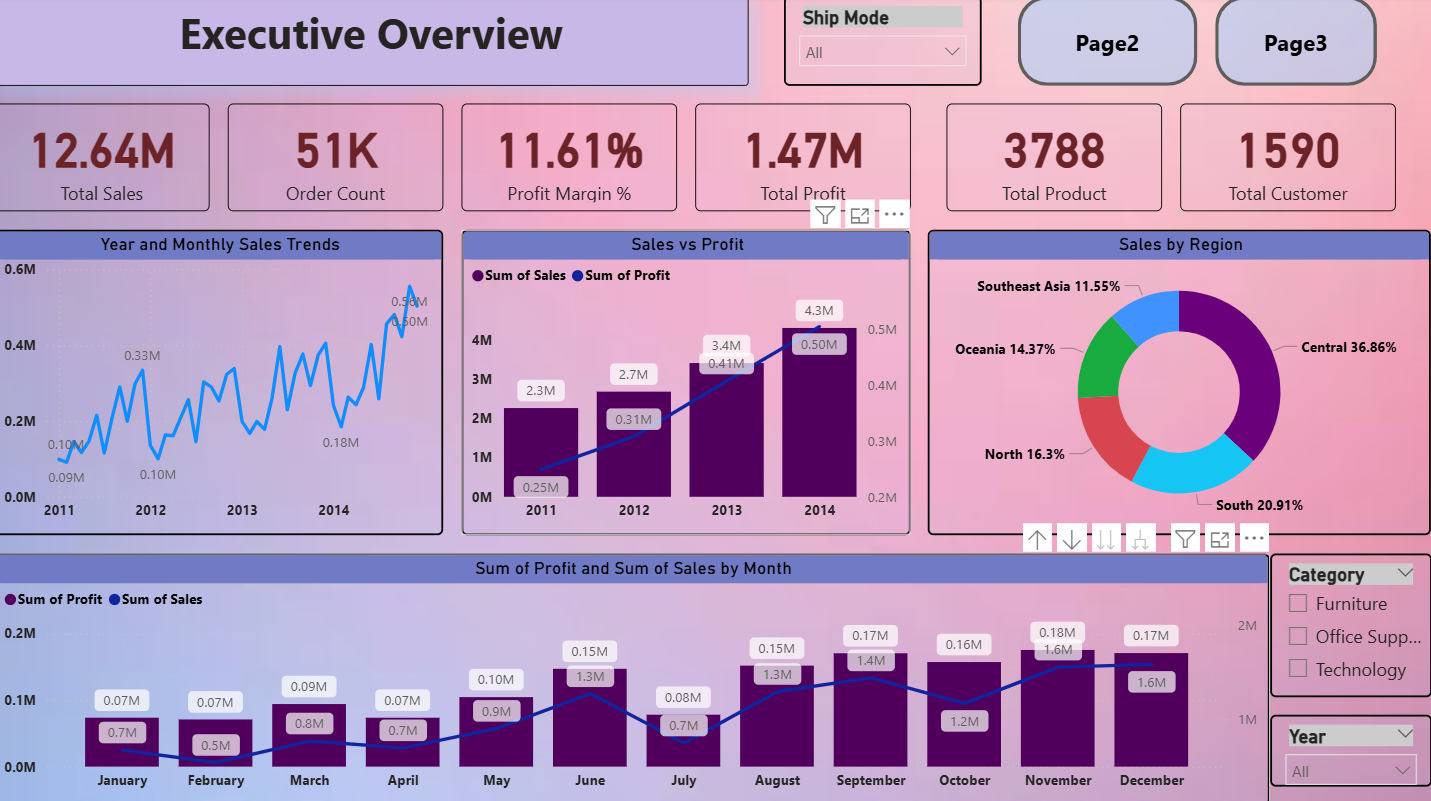

The page's visual inventory and layout, read from the dashboard file:
{"tool":"powerbi","page":{"name":"Page 1","canvas":[1280,720],"ordinal":0},"visuals":[{"type":"textbox","box":[0,0,672,80],"z":0},{"type":"card","fields":{"Values":["Global_Superstore2.Total Sales"]},"box":[0,96,192,96],"z":1000},{"type":"card","fields":{"Values":["Global_Superstore2.Order Count"]},"box":[208,96,192,96],"z":2000},{"type":"card","fields":{"Values":["Global_Superstore2.Profit Margin %"]},"box":[416,96,192,96],"z":3000},{"type":"card","fields":{"Values":["Global_Superstore2.Total Profit"]},"box":[624,96,192,96],"z":4000},{"type":"card","fields":{"Values":["Date.Total Product"]},"box":[848,96,192,96],"z":5000},{"type":"card","fields":{"Values":["Date.Total Customer"]},"box":[1056,96,192,96],"z":6000},{"type":"lineChart","title":" Year and Monthly Sales  Trends","fields":{"Category":["Date.Date.Variation.Date Hierarchy.Year","Date.Date.Variation.Date Hierarchy.Month"],"Y":["Sum(Global_Superstore2.Sales)"]},"box":[0,208,400,272],"z":7000},{"type":"lineStackedColumnComboChart","title":"Sales vs Profit ","fields":{"Y":["Sum(Global_Superstore2.Sales)"],"Category":["Date.Date.Variation.Date Hierarchy.Year"],"Y2":["Sum(Global_Superstore2.Profit)"]},"box":[416,208,400,272],"z":8000},{"type":"lineStackedColumnComboChart","fields":{"Category":["Date.Date.Variation.Date Hierarchy.Year","Date.Date.Variation.Date Hierarchy.Month"],"Y":["Sum(Global_Superstore2.Profit)"],"Y2":["Sum(Global_Superstore2.Sales)"]},"box":[0,496,1136,224],"z":9000},{"type":"slicer","fields":{"Values":["Date.Date.Variation.Date Hierarchy.Year"]},"box":[1136,640,144,64],"z":10000},{"type":"actionButton","title":"Overview2","box":[912,0,160,80],"z":11000},{"type":"actionButton","title":"Overview2","box":[1088,0,144,80],"z":12000},{"type":"slicer","fields":{"Values":["Global_Superstore2.Category"]},"box":[1136,496,144,128],"z":13000},{"type":"donutChart","title":" Sales by Region","fields":{"Category":["Global_Superstore2.Region"],"Y":["Sum(Global_Superstore2.Sales)"]},"box":[832,208,448,272],"z":14000},{"type":"slicer","fields":{"Values":["Global_Superstore2.Ship Mode"]},"box":[704,0,176,80],"z":15001}]}

Visuals, with their boxes in screenshot pixels (x1, y1, x2, y2), scaled from the page's 1280x720 canvas onto the 1431x801 screenshot:
textbox: x1=0 y1=0 x2=751 y2=89
card - Global_Superstore2.Total Sales: x1=0 y1=107 x2=215 y2=214
card - Global_Superstore2.Order Count: x1=233 y1=107 x2=447 y2=214
card - Global_Superstore2.Profit Margin %: x1=465 y1=107 x2=680 y2=214
card - Global_Superstore2.Total Profit: x1=698 y1=107 x2=912 y2=214
card - Date.Total Product: x1=948 y1=107 x2=1163 y2=214
card - Date.Total Customer: x1=1181 y1=107 x2=1395 y2=214
" Year and Monthly Sales  Trends" lineChart: x1=0 y1=231 x2=447 y2=534
"Sales vs Profit " lineStackedColumnComboChart: x1=465 y1=231 x2=912 y2=534
lineStackedColumnComboChart - Date.Date.Variation.Date Hierarchy.Year x Date.Date.Variation.Date Hierarchy.Month: x1=0 y1=552 x2=1270 y2=800
slicer - Date.Date.Variation.Date Hierarchy.Year: x1=1270 y1=712 x2=1430 y2=783
"Overview2" actionButton: x1=1020 y1=0 x2=1198 y2=89
"Overview2" actionButton: x1=1216 y1=0 x2=1377 y2=89
slicer - Global_Superstore2.Category: x1=1270 y1=552 x2=1430 y2=694
" Sales by Region" donutChart: x1=930 y1=231 x2=1430 y2=534
slicer - Global_Superstore2.Ship Mode: x1=787 y1=0 x2=984 y2=89
